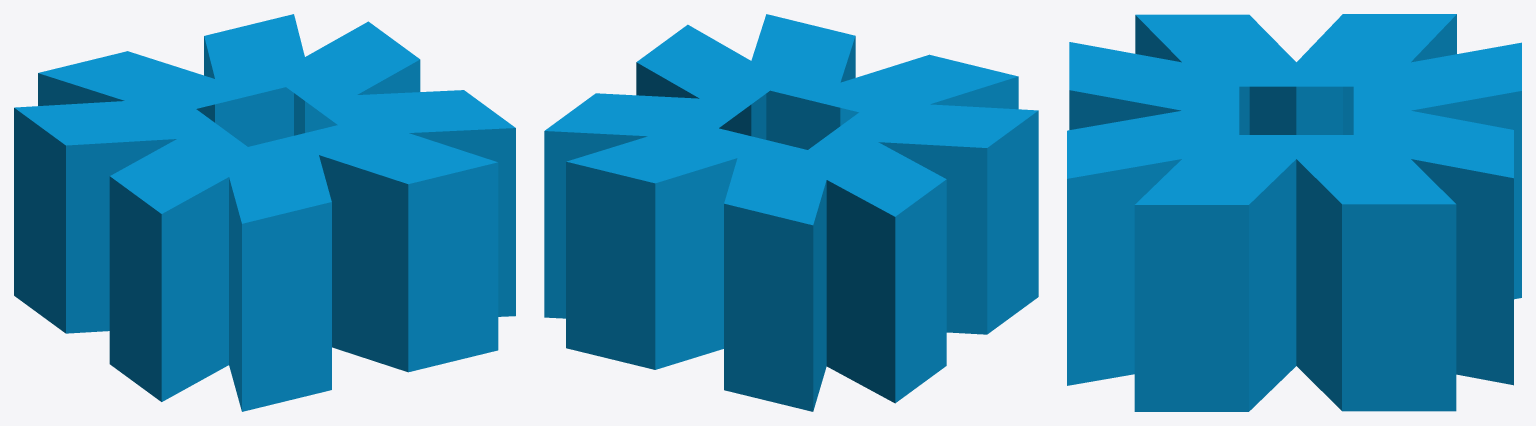
The model's file is Sun_Bead.fbx.
The picture shows the model from 3 angles, left to right: view 1: azimuth 30°, elevation 25°; view 2: azimuth 150°, elevation 25°; view 3: azimuth 270°, elevation 25°; orthographic projection. The views are drawn at different scales.
Visible parts, largest first — view 1: pCube1; view 2: pCube1; view 3: pCube1.
Part boxes in pixels (x1,y1,x2,y2): pCube1: (14,14,515,411); pCube1: (544,14,1038,411); pCube1: (1067,14,1521,411).
Size of the model in its own units: 21.41 by 10.82 by 21.54.
